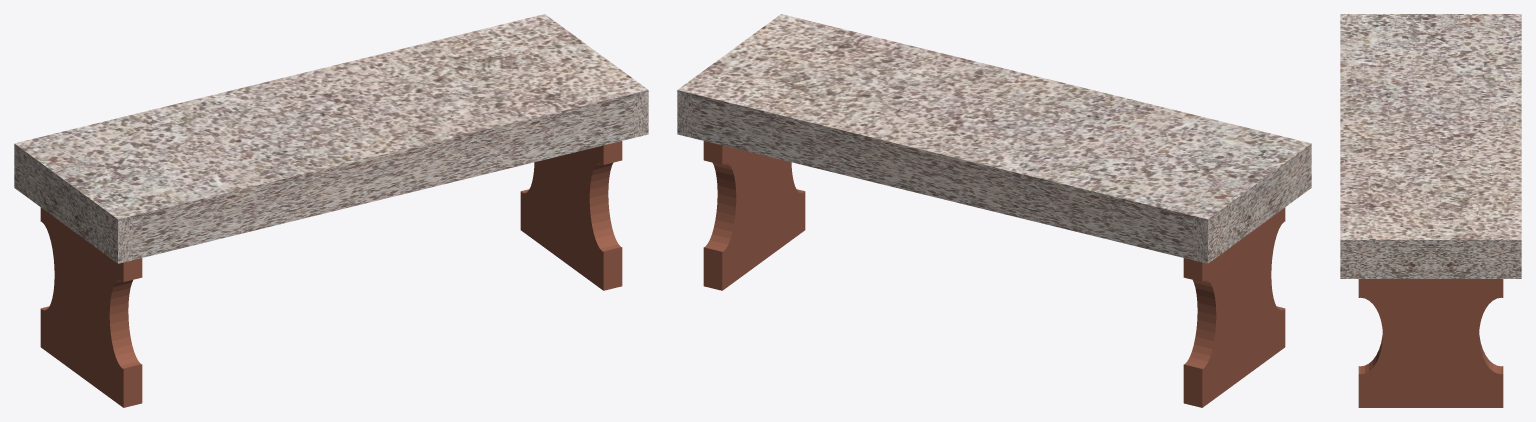
Rendered from SILLACONCILINDORoma.fbx.
3 renders of one model, left to right at view 1: azimuth 30°, elevation 25°; view 2: azimuth 150°, elevation 25°; view 3: azimuth 270°, elevation 25°, orthographic. The views are drawn at different scales.
Visible parts, largest first — view 1: Cube; view 2: Cube; view 3: Cube.
Part boxes in pixels (box(x1,y1,x2,y2)): Cube: box(14, 14, 648, 407); Cube: box(677, 14, 1311, 407); Cube: box(1340, 14, 1521, 407).
Size of the model in its own units: 187 by 67.55 by 63.55.
